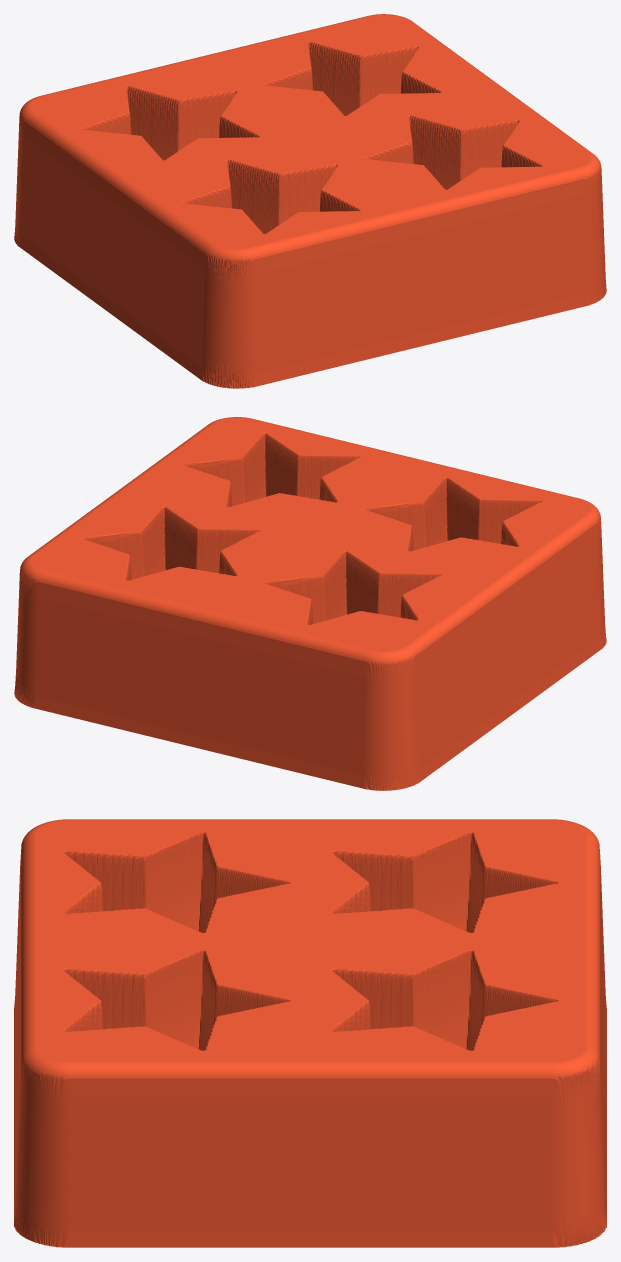
File: mold.glb
3 views of the same model, one above another, from view 1: azimuth 30°, elevation 25°; view 2: azimuth 150°, elevation 25°; view 3: azimuth 270°, elevation 25° (orthographic). The views are drawn at different scales.
Parts seen in each view (by area): view 1: geometry_0; view 2: geometry_0; view 3: geometry_0.
Boxes of the visible parts, bbox=[...] form: geometry_0: bbox=[14, 14, 606, 388]; geometry_0: bbox=[14, 417, 606, 790]; geometry_0: bbox=[14, 819, 606, 1247].
Bounding box in the file's own units: 0.0992 × 0.0314 × 0.0956.
